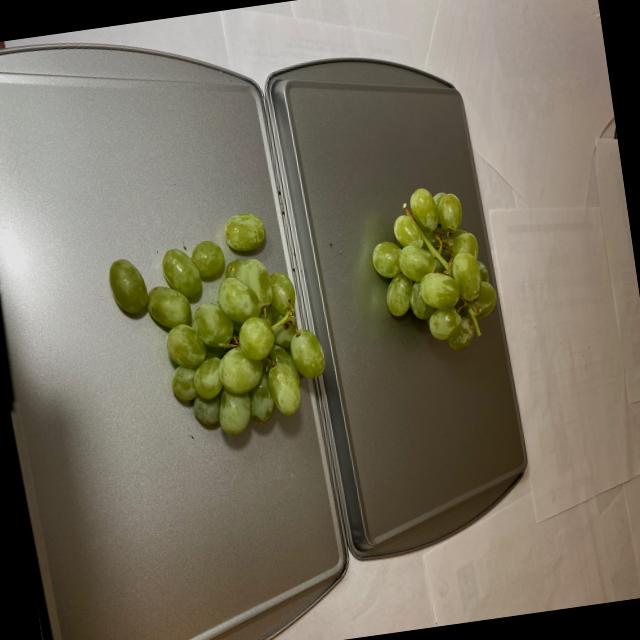grapes: (104, 207, 335, 458), (359, 182, 503, 360)
